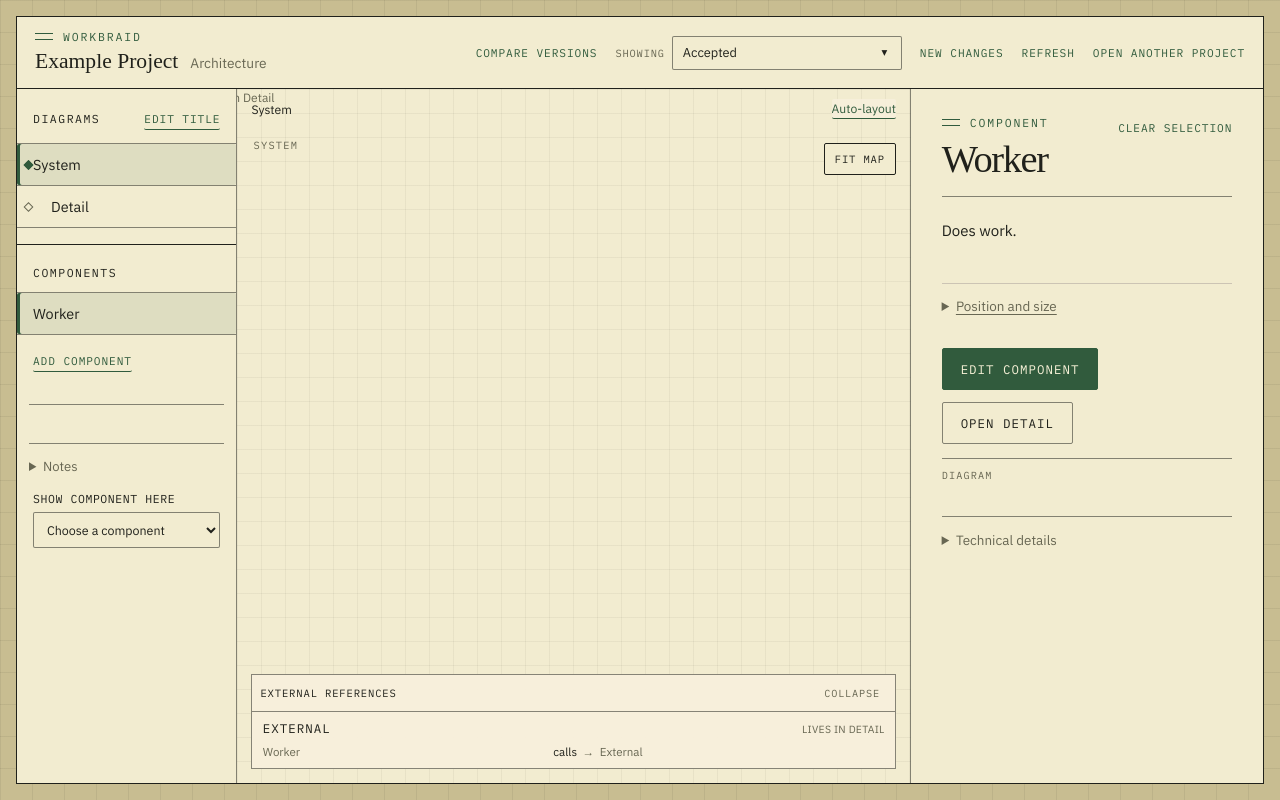
Scenario: slug workspace and reusable references › uses server-owned current-home wording and offers only approved move destinations
Click the button "Detail" at (127, 206), box left=17, top=186, right=236, bottom=227
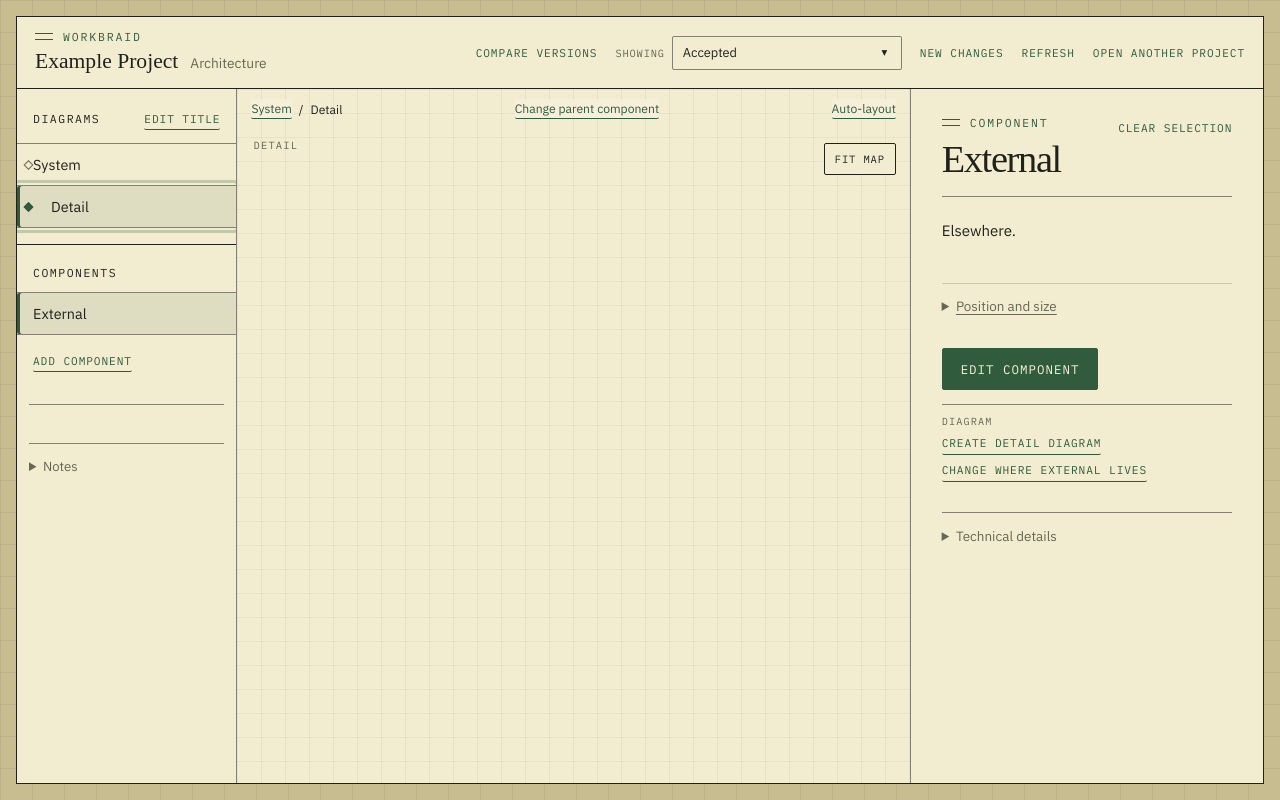
Click the button "External" at (127, 313), box left=17, top=292, right=236, bottom=334
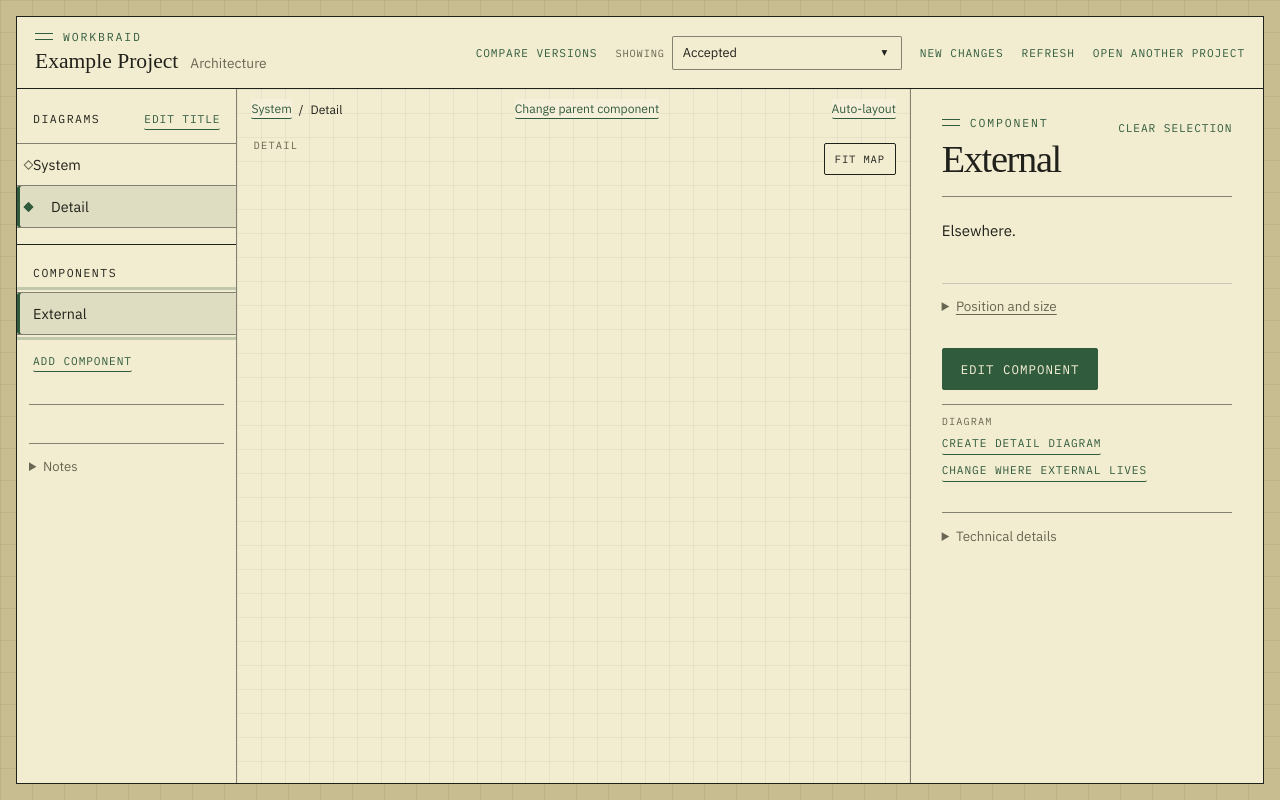
Click the button "Change where External lives" at (1044, 470), box left=942, top=459, right=1147, bottom=482
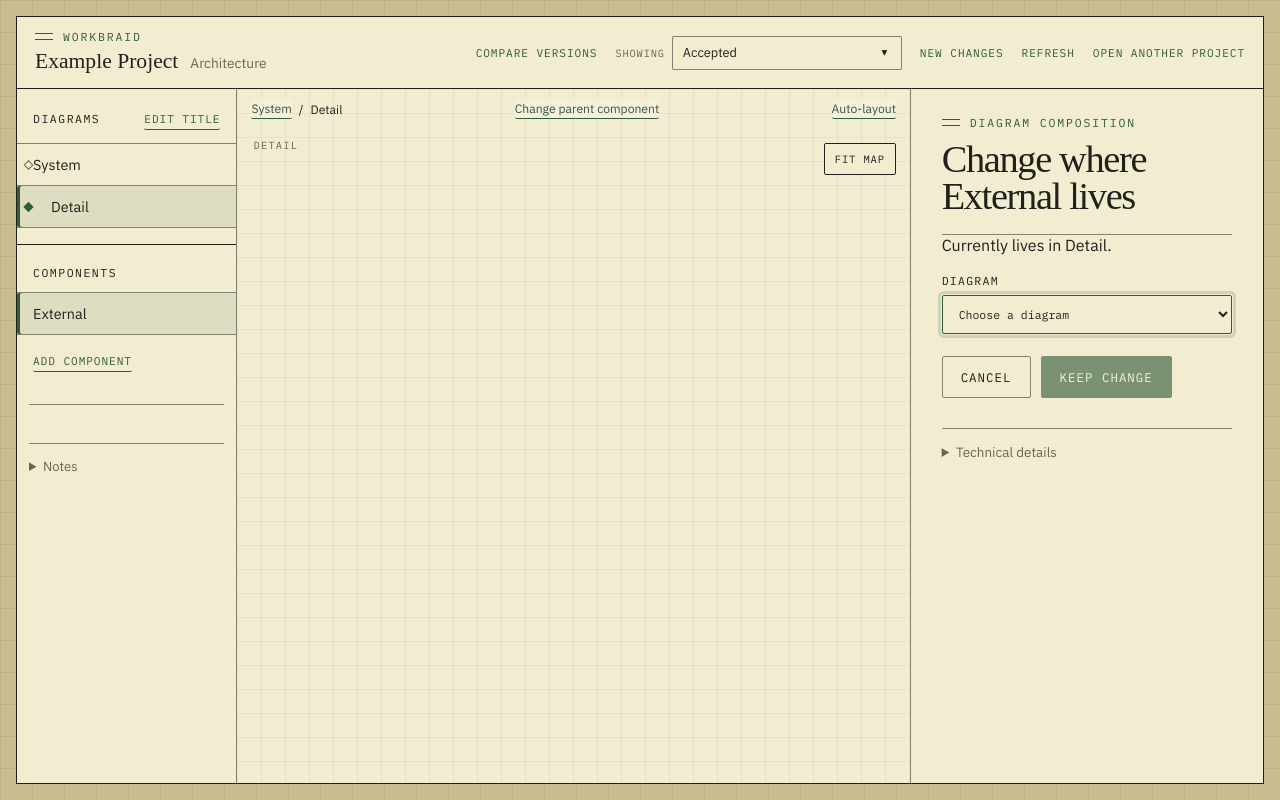
Check: the heading "Change where External lives" is shown, box left=942, top=138, right=1146, bottom=217
Check: the text "Currently lives in Detail." is shown, box left=942, top=235, right=1112, bottom=255
